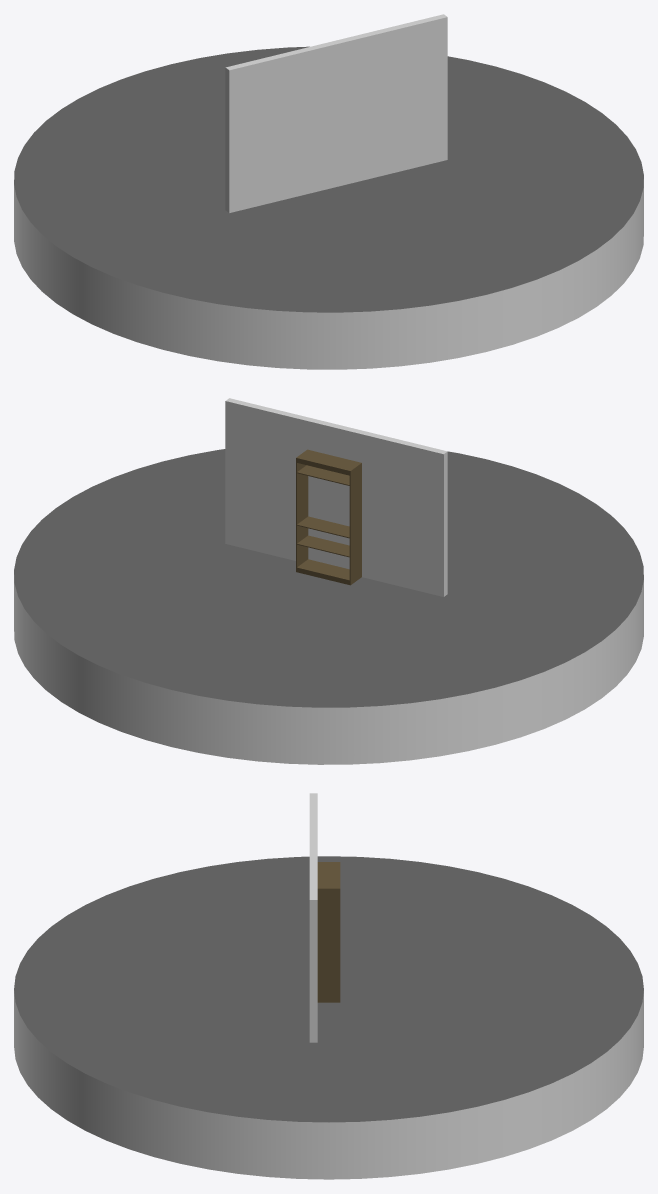
File: Biome_HangerCabinet.glb
3 views of the same model, one above another, from view 1: azimuth 30°, elevation 25°; view 2: azimuth 150°, elevation 25°; view 3: azimuth 270°, elevation 25° (orthographic).
Visible parts, largest first — view 1: Biome.004, Backwall.002; view 2: Biome.004, Backwall.002, Casework-Closet Built In-Single -BASE- [5497009].001; view 3: Biome.004, Casework-Closet Built In-Single -BASE- [5497009].001, Backwall.002.
Part boxes in pixels (x1=…): Biome.004: x1=14, y1=46, x2=643, y2=369; Backwall.002: x1=225, y1=14, x2=447, y2=212; Biome.004: x1=14, y1=449, x2=643, y2=764; Backwall.002: x1=225, y1=398, x2=447, y2=596; Casework-Closet Built In-Single -BASE- [5497009].001: x1=296, y1=449, x2=361, y2=585; Biome.004: x1=14, y1=856, x2=643, y2=1179; Casework-Closet Built In-Single -BASE- [5497009].001: x1=317, y1=862, x2=340, y2=1002; Backwall.002: x1=309, y1=793, x2=317, y2=1042.
Bounding box in the file's own units: 12.19 × 4.27 × 12.19.
